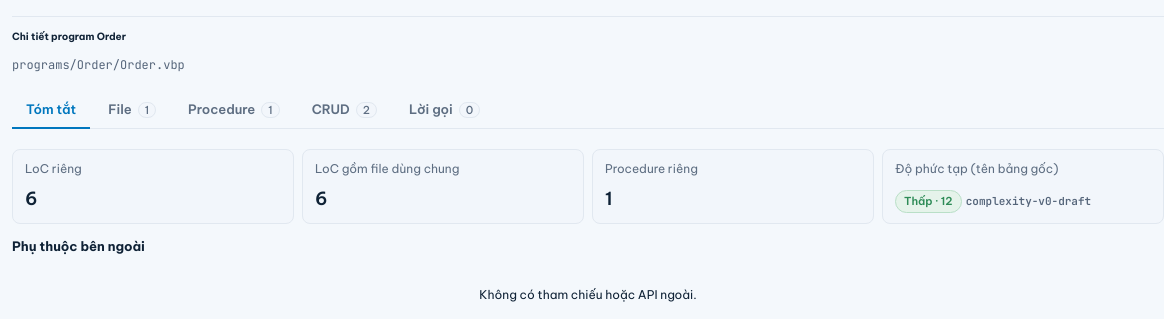
Test: Program detail (F04) › opens the mapped view with the schema prefix written most often, labelled as assumed
The width and height of the screenshot is (1164, 319).
What coordinates should you click on to do the following:
click the tab "CRUD2"
I would click on:
 (344, 110)
Its box is top-left (298, 91), bottom-right (391, 129).
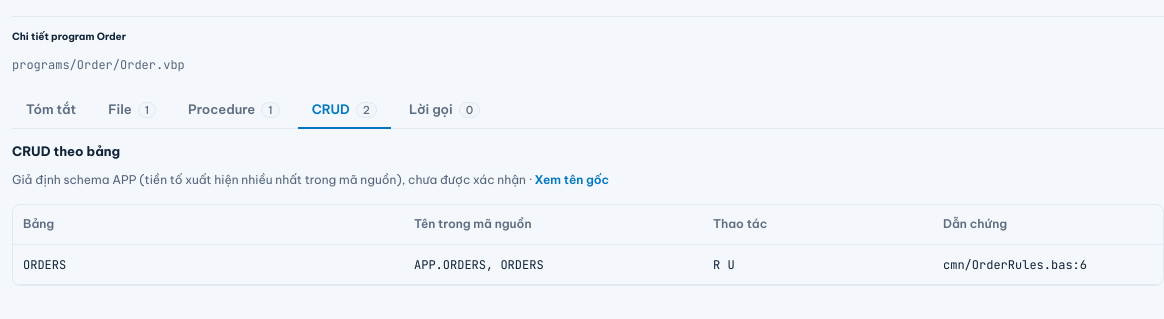
Now the text "ORDERS" shows "APP.ORDERS, ORDERS", box top-left (414, 257), bottom-right (544, 273)
Now the text "Giả định schema APP (tiền tố xuất hiện nhiều nhất trong mã nguồn)" is shown, box top-left (12, 172), bottom-right (526, 187)
